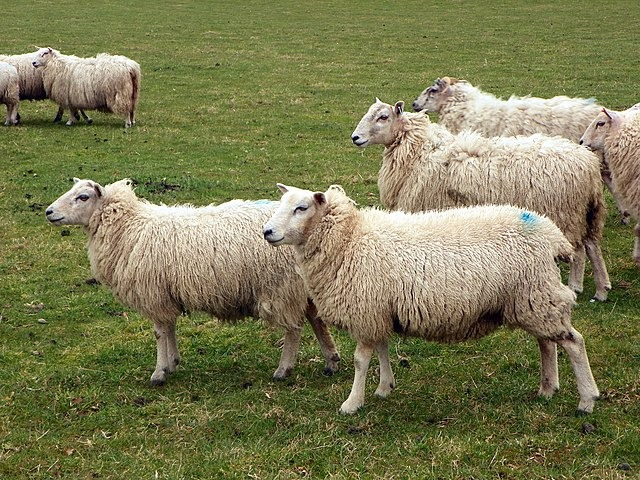standing: (257, 177, 601, 417), (42, 175, 336, 377), (33, 45, 140, 125)
